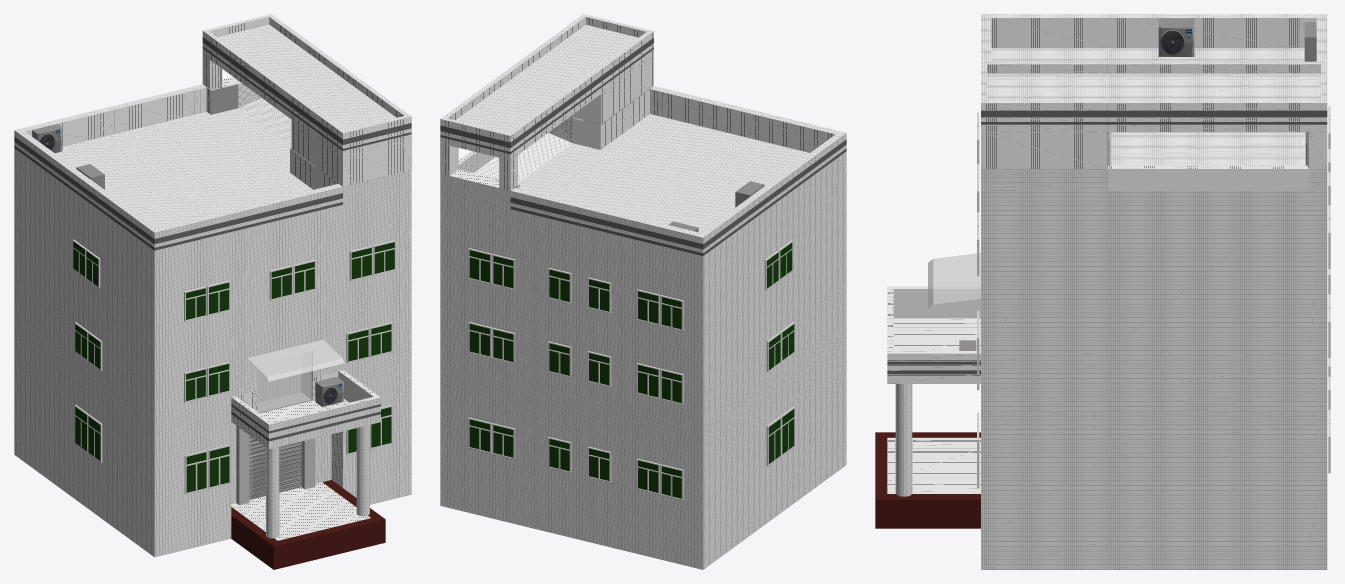
Rendered from regina_building.fbx.
The picture shows the model from 3 angles, left to right: view 1: azimuth 30°, elevation 25°; view 2: azimuth 150°, elevation 25°; view 3: azimuth 270°, elevation 25°; orthographic projection. The views are drawn at different scales.
Visible parts, largest first — view 1: 立方体.001, 窗戶.284, 窗戶.283, 窗戶.280, 窗戶.278, 窗戶.281, 壓縮機.069, 窗戶.271, 窗戶.273, 窗戶.277, 窗戶.275, 窗戶.272 (+6 smaller); view 2: 立方体.001, 窗戶.293, 窗戶.296, 窗戶.305, 窗戶.308, 窗戶.295, 窗戶.307, 窗戶.299, 窗戶.301, 窗戶.302, 窗戶.306, 窗戶.291 (+11 smaller); view 3: 立方体.001, 壓縮機.071.
Part boxes in pixels (left/top/right/bottom): 立方体.001: left=14, top=14, right=411, bottom=569; 窗戶.284: left=184, top=450, right=207, bottom=494; 窗戶.283: left=207, top=444, right=230, bottom=489; 窗戶.280: left=269, top=265, right=293, bottom=300; 窗戶.278: left=349, top=246, right=373, bottom=281; 窗戶.281: left=370, top=405, right=392, bottom=449; 壓縮機.069: left=315, top=376, right=343, bottom=406; 窗戶.271: left=369, top=322, right=392, bottom=357; 窗戶.273: left=207, top=362, right=230, bottom=397; 窗戶.277: left=373, top=240, right=396, bottom=275; 窗戶.275: left=207, top=280, right=230, bottom=315; 窗戶.272: left=346, top=328, right=369, bottom=363; 立方体.001: left=440, top=14, right=846, bottom=569; 窗戶.293: left=491, top=254, right=515, bottom=289; 窗戶.296: left=587, top=277, right=611, bottom=313; 窗戶.305: left=491, top=423, right=515, bottom=459; 窗戶.308: left=587, top=446, right=611, bottom=482; 窗戶.295: left=547, top=268, right=571, bottom=303; 窗戶.307: left=547, top=437, right=571, bottom=472; 窗戶.299: left=491, top=327, right=515, bottom=363; 窗戶.301: left=547, top=341, right=571, bottom=377; 窗戶.302: left=587, top=351, right=611, bottom=387; 窗戶.306: left=468, top=417, right=491, bottom=453; 窗戶.291: left=660, top=295, right=683, bottom=331; 立方体.001: left=875, top=14, right=1327, bottom=569; 壓縮機.071: left=1158, top=18, right=1194, bottom=56.
Size of the model in its own units: 1090 by 1522 by 1344.
9 materials, 3 textured.
